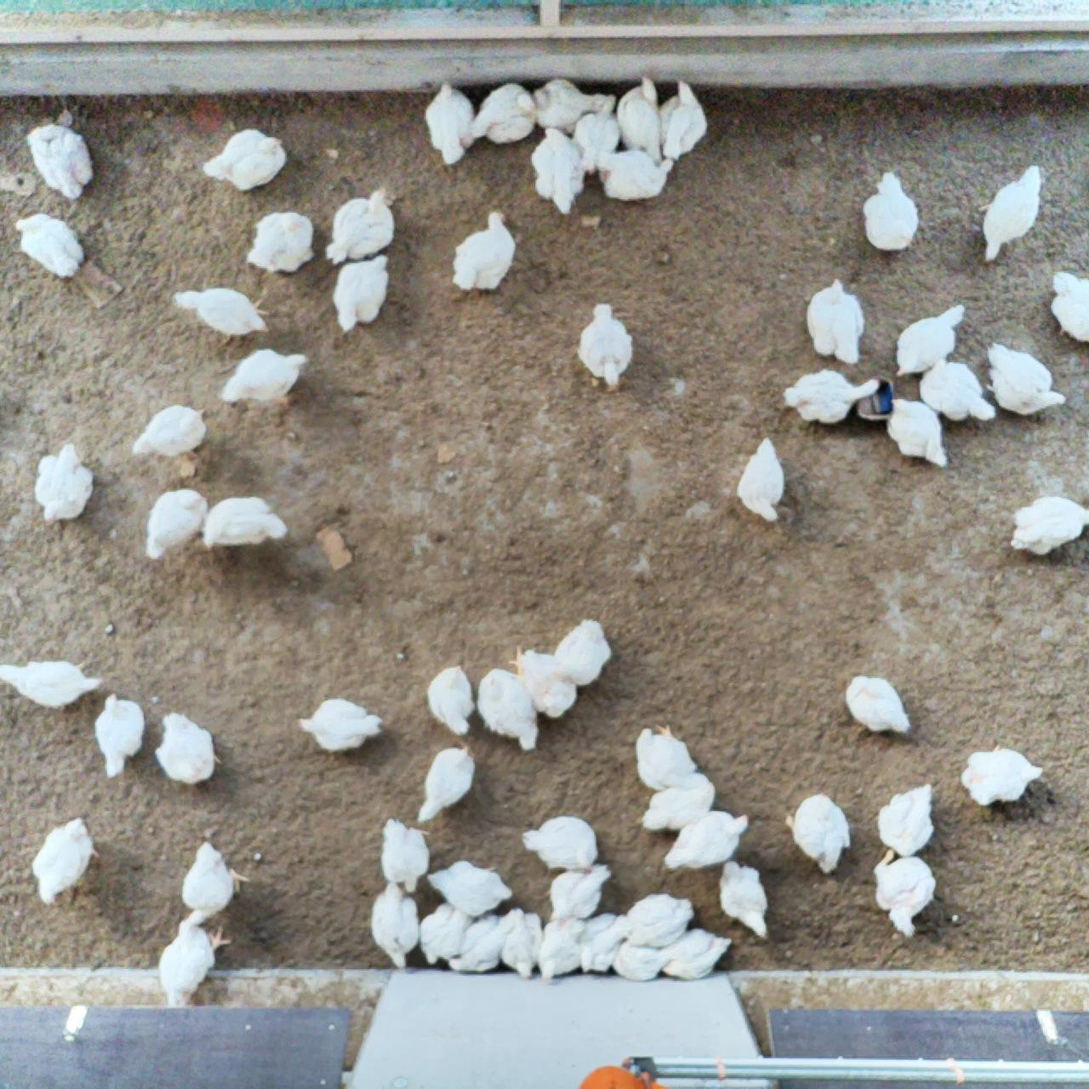chicken: (151, 912, 235, 1011), (27, 812, 104, 911), (976, 161, 1047, 267), (168, 280, 275, 349), (982, 336, 1070, 419), (198, 122, 293, 198), (658, 807, 755, 878), (473, 663, 547, 755), (871, 844, 940, 942), (323, 181, 401, 267), (892, 299, 971, 383), (781, 788, 855, 877), (0, 653, 104, 716), (138, 483, 214, 569), (449, 207, 521, 297), (855, 163, 924, 256), (802, 273, 869, 368), (959, 740, 1048, 811), (328, 247, 397, 338), (25, 117, 97, 204), (781, 365, 881, 427), (30, 441, 100, 529), (215, 345, 311, 409), (9, 209, 90, 284), (177, 834, 246, 921), (423, 855, 516, 918), (295, 690, 385, 755), (151, 707, 225, 786), (445, 904, 525, 977), (575, 299, 639, 389), (198, 492, 292, 553), (528, 124, 590, 216), (630, 717, 706, 792), (1009, 487, 1089, 558), (918, 355, 1001, 423), (530, 72, 616, 137), (509, 643, 582, 719), (716, 854, 778, 943), (244, 206, 320, 278), (90, 690, 149, 782), (415, 741, 478, 827), (131, 397, 210, 465), (419, 78, 478, 169), (654, 74, 713, 164), (548, 614, 615, 693), (613, 72, 670, 164), (519, 812, 603, 874), (885, 395, 954, 470), (734, 433, 789, 526), (844, 671, 917, 741), (367, 877, 421, 971), (593, 141, 679, 200), (876, 778, 938, 858), (374, 814, 433, 897), (468, 76, 538, 145), (624, 889, 697, 951), (641, 779, 721, 835), (661, 924, 737, 981), (574, 92, 626, 174), (547, 861, 615, 923), (426, 660, 477, 740), (418, 898, 474, 969), (577, 907, 631, 978), (497, 905, 546, 981), (534, 917, 590, 983), (1046, 268, 1089, 348), (611, 933, 673, 982)
